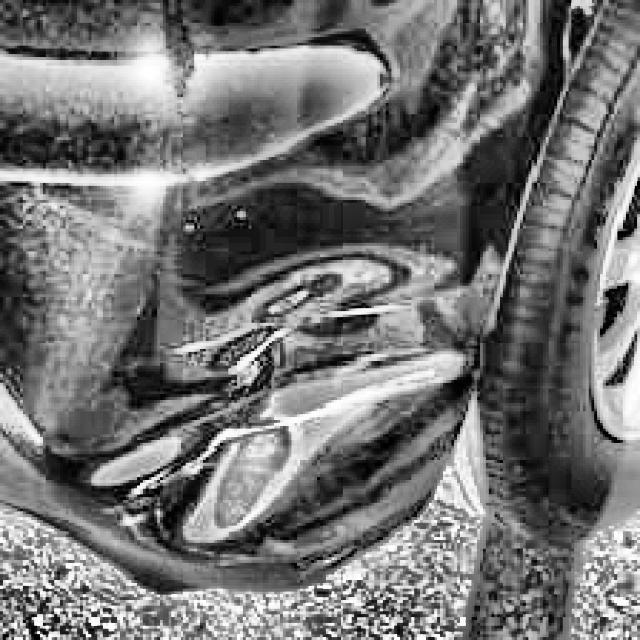bumper_dent: (103, 239, 446, 535)
